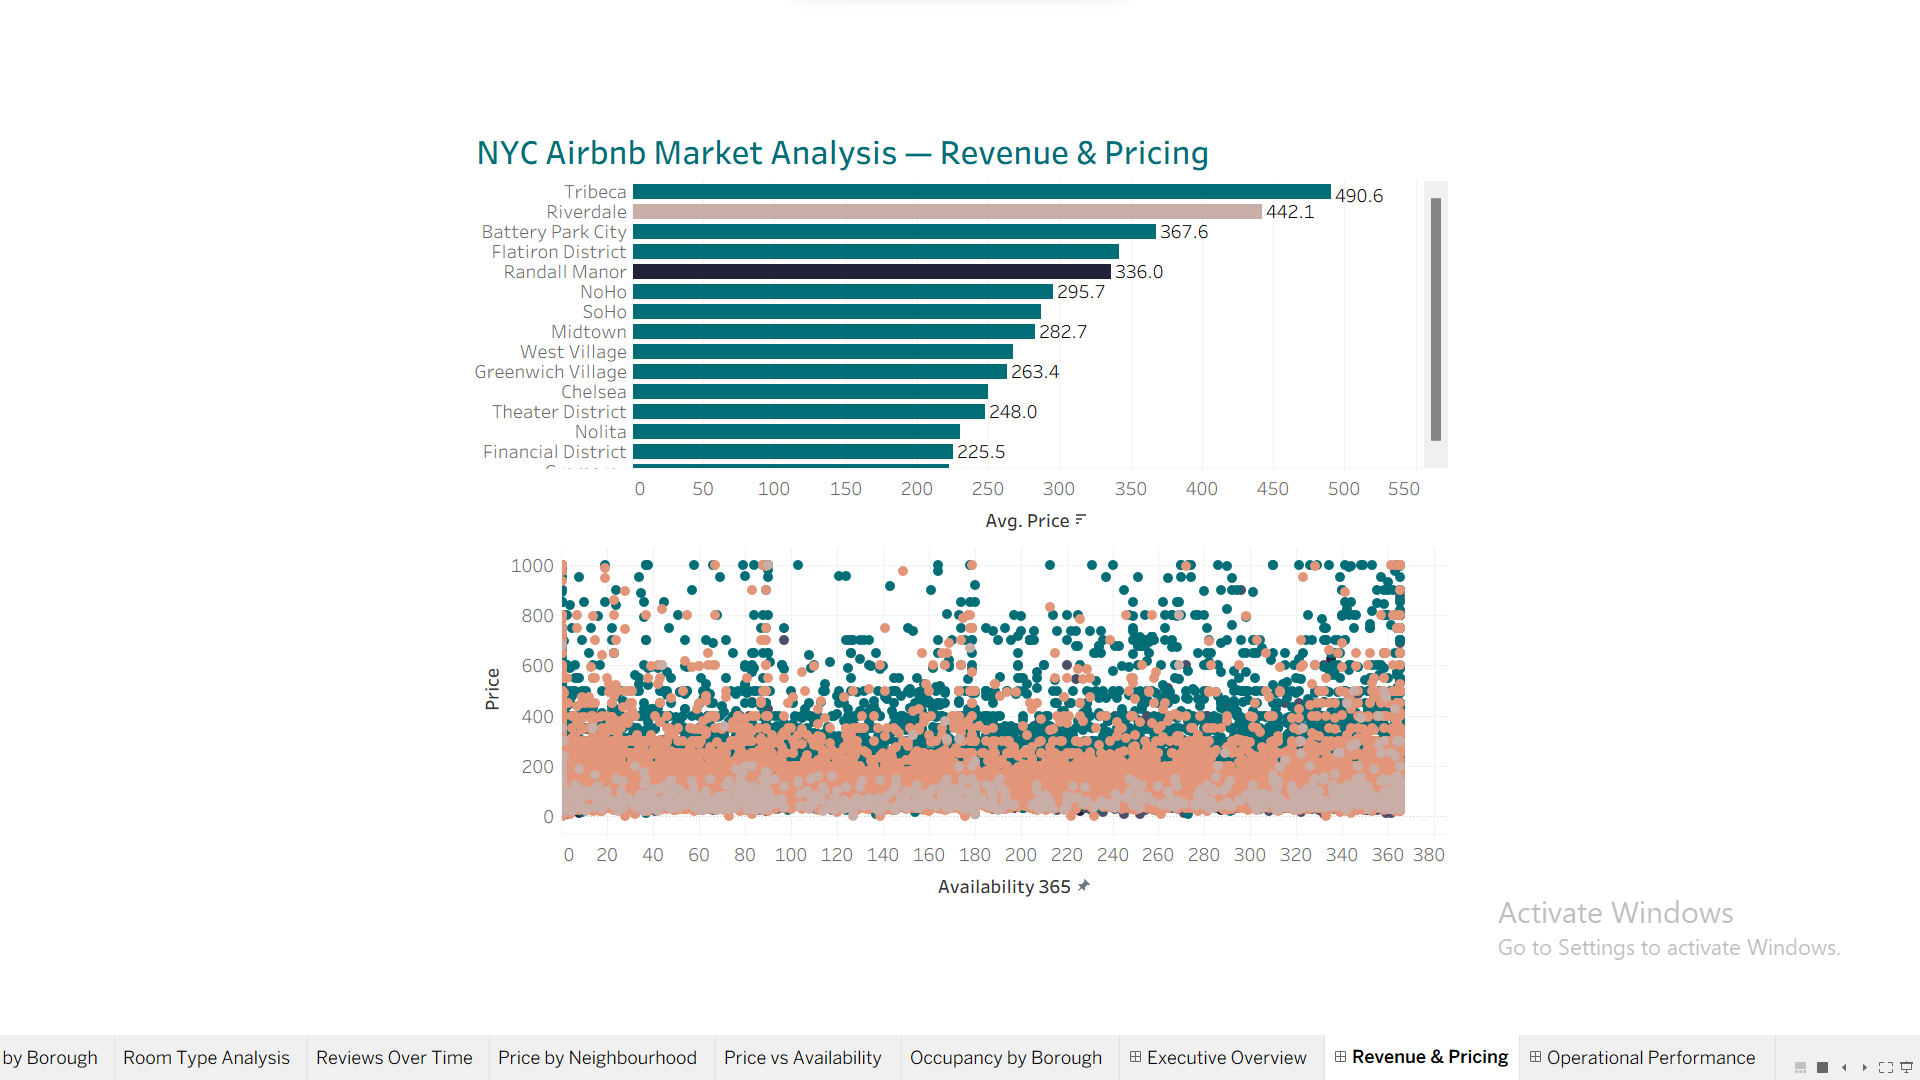

The page's visual inventory and layout, read from the dashboard file:
{"tool":"tableau","page":{"name":"Revenue & Pricing","canvas":[1000,800],"ordinal":2},"visuals":[{"type":"title","box":[8,8,984,52]},{"type":"worksheet","title":"Price by Neighbourhood","mark":"Automatic","rows":["neighbourhood"],"cols":["price"],"box":[8,60,984,366]},{"type":"worksheet","title":"Price vs Availability","mark":"Circle","rows":["price"],"cols":["availability_365"],"box":[8,426,984,366]}]}

Visuals, with their boxes on the page's 1000x800 design canvas (x1, y1, x2, y2). These are canvas units, not pixel positions in the 1920x1080 screenshot, which may show the page scaled, cropped or inside an application window:
title: l=8, t=8, r=992, b=60
"Price by Neighbourhood" worksheet: l=8, t=60, r=992, b=426
"Price vs Availability" worksheet (Circle marks): l=8, t=426, r=992, b=792
